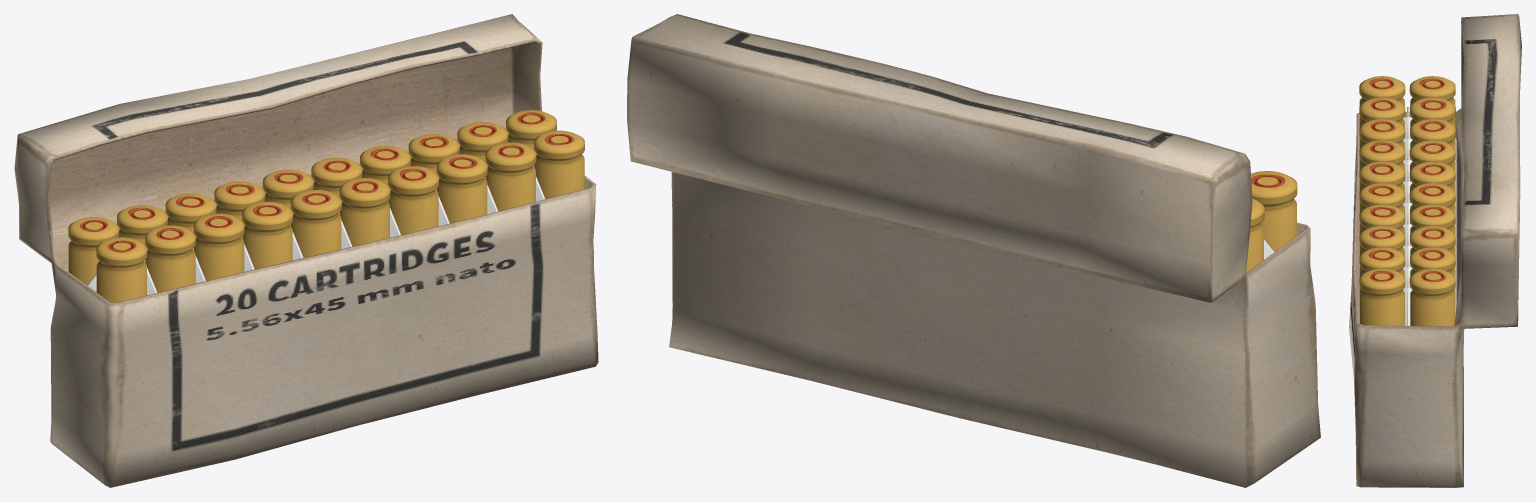
File: Rifle Ammo Box.fbx
3 renders of one model, left to right at view 1: azimuth 30°, elevation 25°; view 2: azimuth 150°, elevation 25°; view 3: azimuth 270°, elevation 25°, orthographic. The views are drawn at different scales.
Parts seen in each view (by area): view 1: Box_01_lod0.001; view 2: Box_01_lod0.001; view 3: Box_01_lod0.001.
Part boxes in pixels (left/top/right/bottom): Box_01_lod0.001: left=14, top=14, right=598, bottom=487; Box_01_lod0.001: left=627, top=14, right=1320, bottom=487; Box_01_lod0.001: left=1349, top=14, right=1521, bottom=487.
Bounding box in the file's own units: 10.77 × 6.03 × 3.58.
